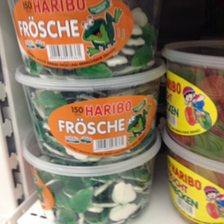candy: (13, 67, 165, 163), (8, 1, 159, 80), (163, 43, 224, 165)
